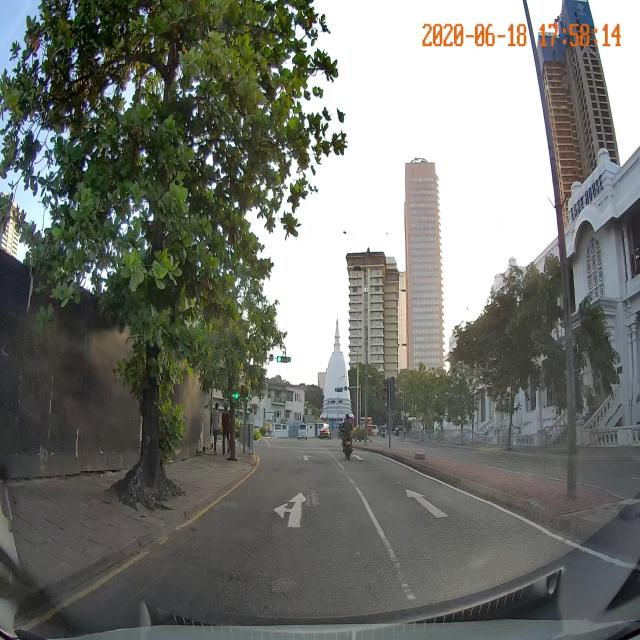forward_lft: (167, 479, 396, 554)
